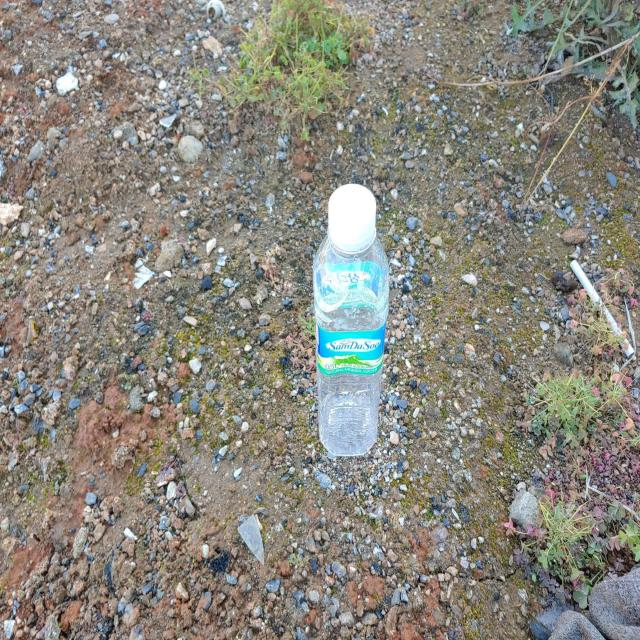plastic: (313, 183, 389, 456)
